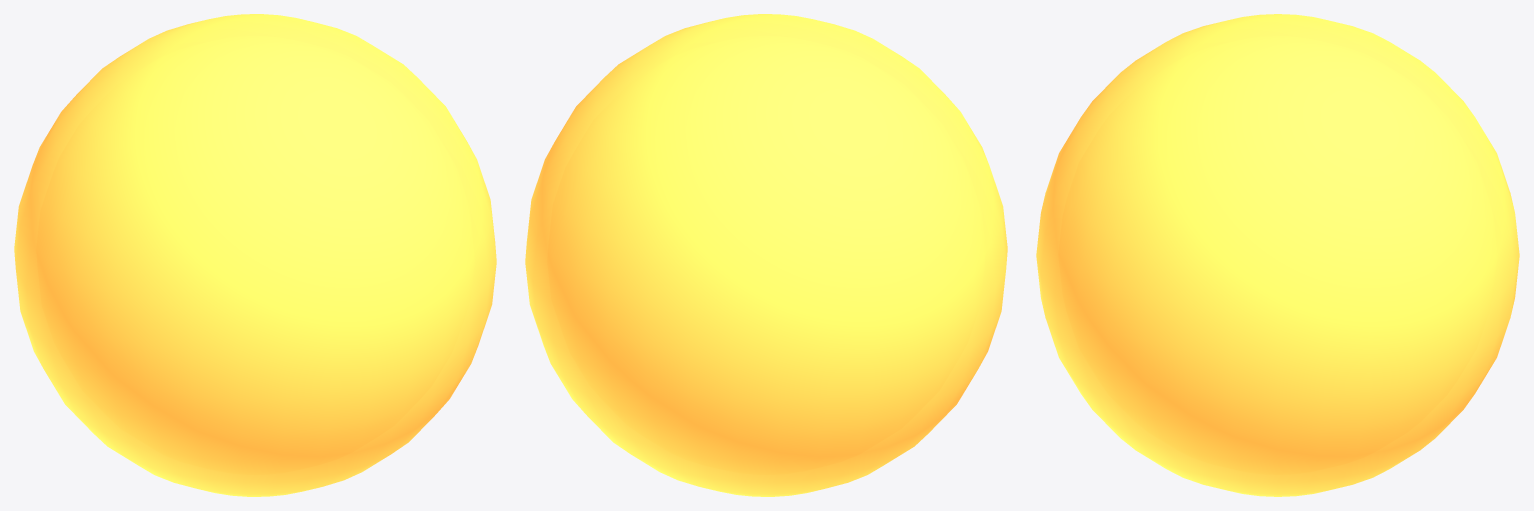
The model's file is orb-fire.glb.
3 views of the same model, side by side, from view 1: azimuth 30°, elevation 25°; view 2: azimuth 150°, elevation 25°; view 3: azimuth 270°, elevation 25° (orthographic).
Parts seen in each view (by area): view 1: orb-fire; view 2: orb-fire; view 3: orb-fire.
Boxes of the visible parts, <box> form: orb-fire: <box>14,14,496,496</box>; orb-fire: <box>525,14,1007,496</box>; orb-fire: <box>1036,14,1519,496</box>.
Size of the model in its own units: 1.23 by 1.23 by 1.23.
